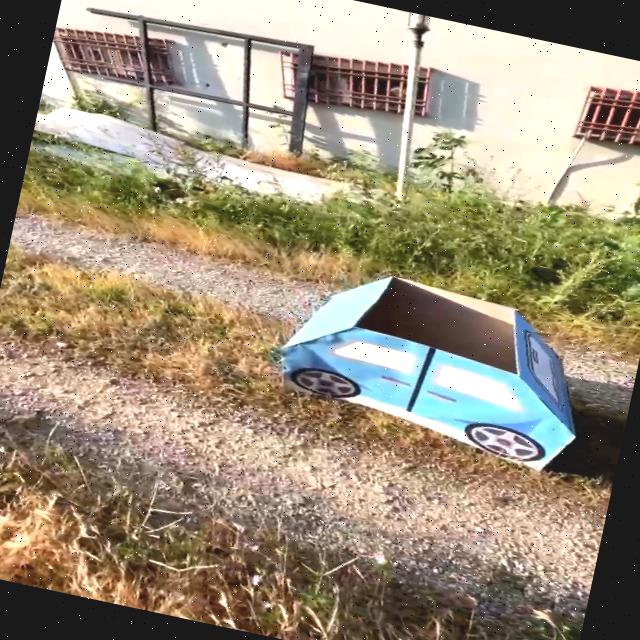blue_car: (222, 233, 640, 509)
